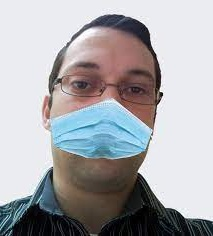mask_weared_incorrect: (52, 29, 159, 189)
